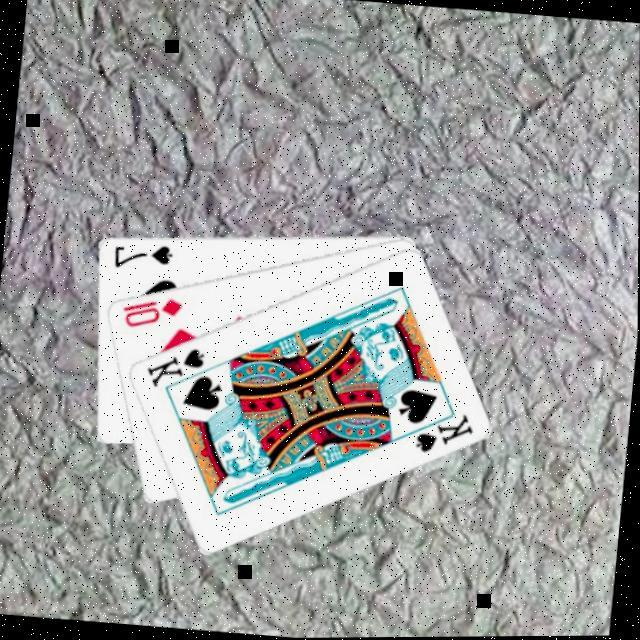10D: (120, 291, 187, 334)
7S: (110, 238, 177, 275)
KS: (401, 405, 479, 460), (143, 341, 209, 394)
